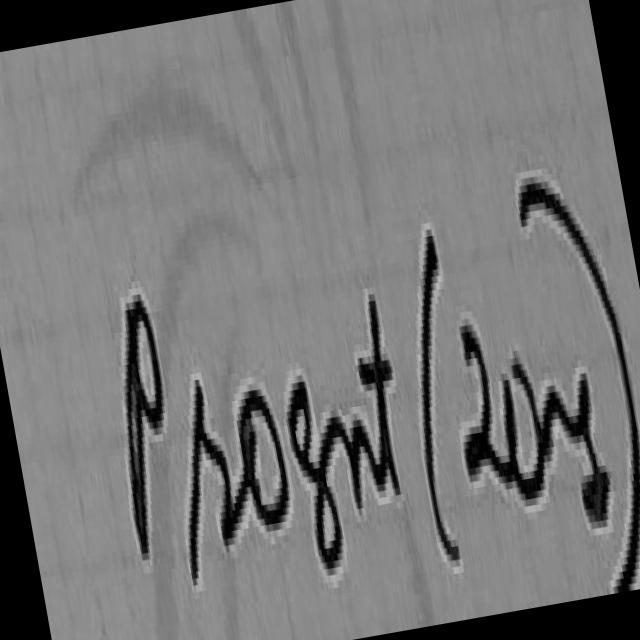0: (481, 296, 563, 558)
2: (430, 270, 519, 533)
P: (87, 249, 178, 590)
g: (267, 332, 359, 596), (545, 286, 627, 560)
m: (514, 303, 588, 469)
o: (218, 347, 304, 558)
r: (170, 358, 258, 621)
t: (337, 250, 421, 526)
u: (319, 335, 394, 545)
